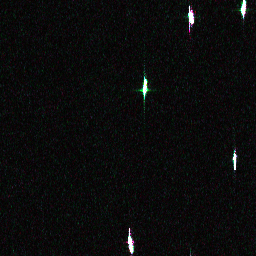ship: (125, 233, 136, 255), (140, 77, 149, 97), (186, 10, 196, 26), (231, 151, 239, 171), (239, 1, 248, 17)
